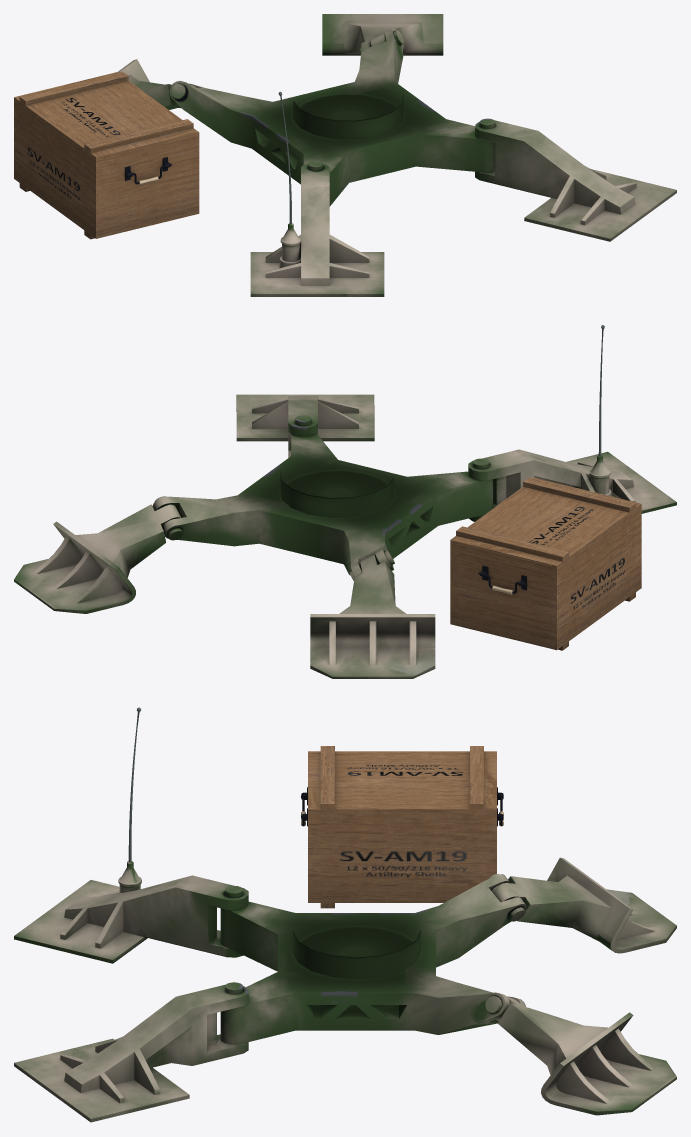
File: cannon_base.gltf
3 renders of one model, top to bottom at view 1: azimuth 30°, elevation 25°; view 2: azimuth 150°, elevation 25°; view 3: azimuth 270°, elevation 25°, orthographic. The views are drawn at different scales.
Visible parts, largest first — view 1: base_geo; view 2: base_geo; view 3: base_geo.
Part boxes in pixels (bbox=[...]): base_geo: bbox=[14, 14, 676, 296]; base_geo: bbox=[14, 325, 676, 678]; base_geo: bbox=[14, 707, 676, 1122].
Bounding box in the file's own units: 3.29 × 1.15 × 3.38.
Materials: 1 (1 with a texture image).
